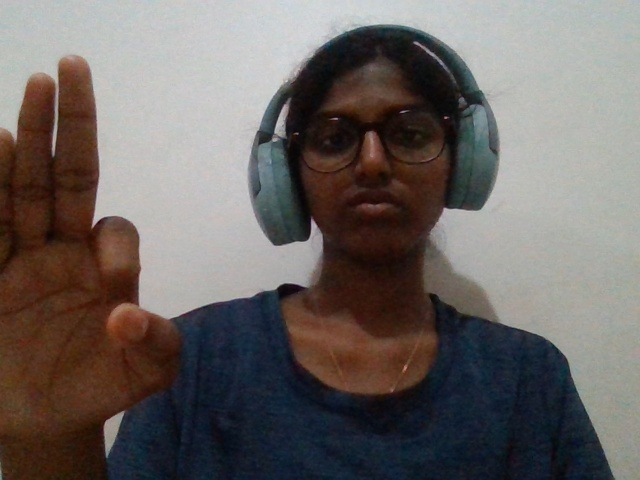F: (2, 40, 210, 476)
